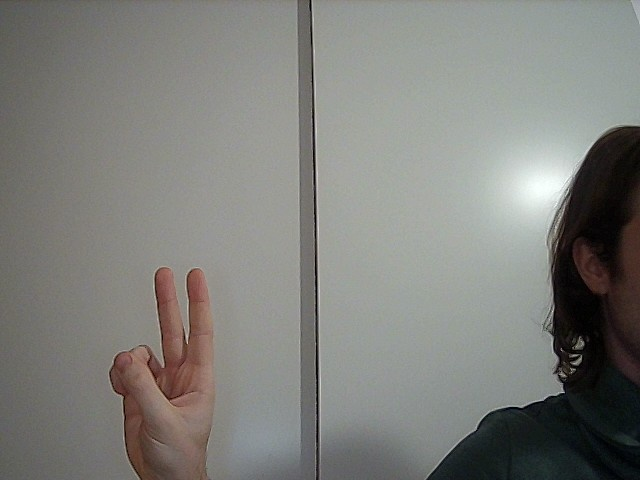r: (98, 255, 235, 475)
